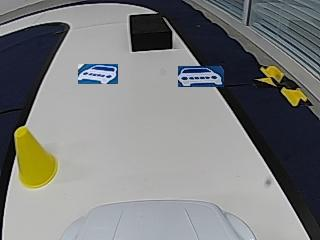block: (130, 13, 172, 50)
cone: (13, 128, 59, 189)
